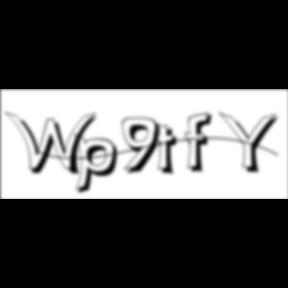9: (122, 117, 168, 177)
W: (5, 110, 103, 178)
Y: (218, 110, 284, 176)
f: (186, 111, 218, 175)
p: (75, 132, 125, 198)
t: (154, 124, 184, 179)
